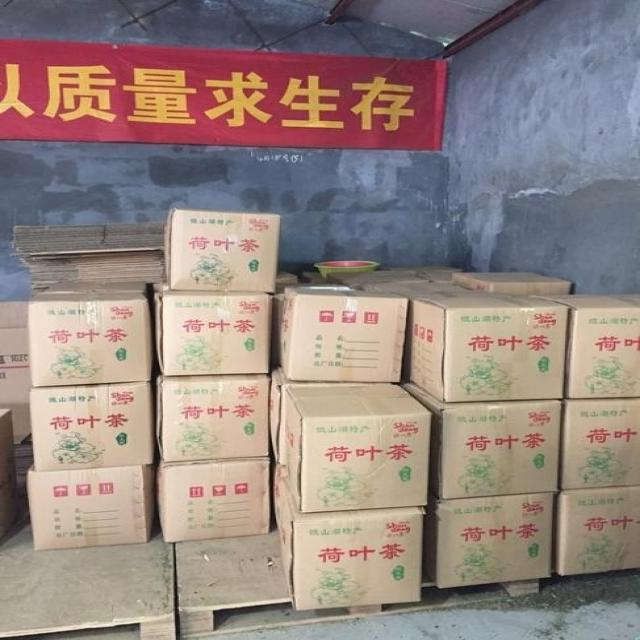box: (275, 383, 432, 515), (272, 473, 424, 609), (401, 383, 564, 500), (402, 295, 568, 403), (273, 287, 409, 384), (423, 492, 559, 588), (527, 293, 640, 401), (28, 291, 150, 388), (28, 463, 158, 551), (32, 381, 156, 473), (154, 281, 272, 377), (159, 373, 272, 467), (152, 455, 269, 545), (160, 211, 279, 294), (555, 485, 640, 578), (559, 397, 640, 493), (0, 302, 34, 445), (449, 271, 573, 296), (0, 410, 20, 538), (323, 270, 427, 291), (371, 283, 489, 300), (268, 362, 288, 457), (38, 280, 149, 292), (269, 456, 285, 524), (275, 266, 300, 289), (381, 267, 464, 272), (306, 270, 326, 284)
